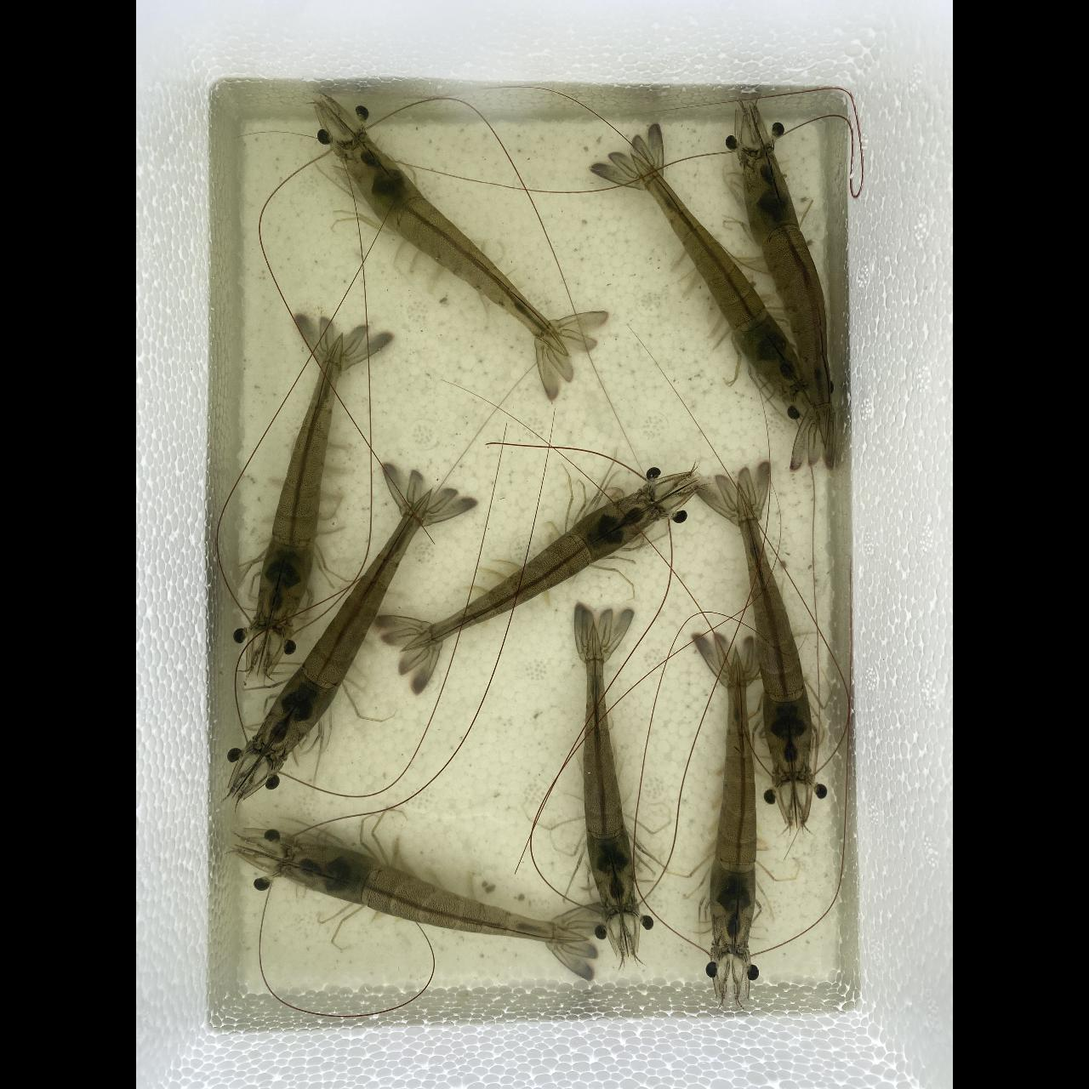top_shrimp: (349, 138, 570, 359), (255, 489, 432, 761), (630, 156, 809, 396), (400, 492, 663, 651), (281, 836, 589, 939), (743, 148, 830, 449), (256, 336, 342, 635), (737, 480, 815, 780), (582, 620, 635, 908), (708, 649, 756, 950)
